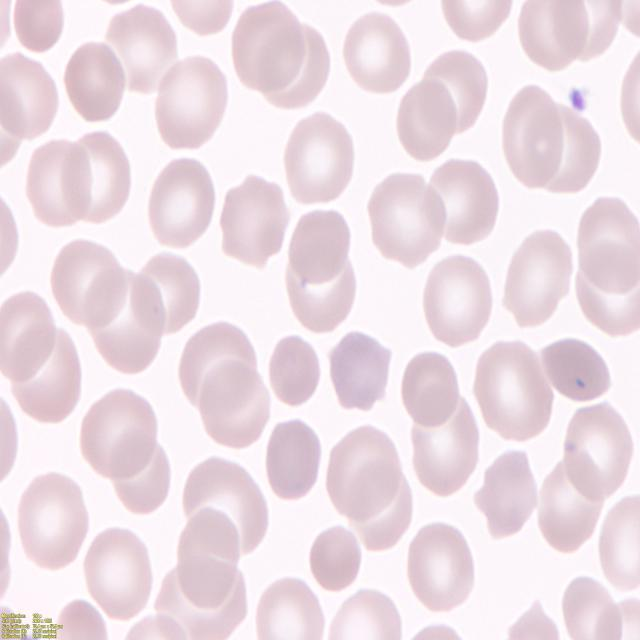RBC: (474, 341, 556, 445), (150, 52, 228, 158), (499, 225, 576, 332), (15, 473, 94, 577), (409, 396, 486, 502), (7, 326, 86, 428), (365, 173, 448, 269), (60, 130, 138, 232), (559, 404, 636, 506), (78, 383, 160, 478), (417, 252, 494, 352), (324, 423, 404, 519), (280, 110, 358, 208), (80, 526, 156, 626), (46, 235, 125, 329), (146, 156, 220, 254), (404, 520, 476, 620), (536, 456, 608, 556), (175, 504, 244, 608), (218, 175, 292, 271), (228, 1, 304, 92), (340, 10, 416, 100), (22, 134, 94, 229), (198, 360, 272, 452), (500, 84, 565, 188), (420, 44, 490, 139), (428, 164, 502, 252), (536, 104, 604, 198), (575, 195, 640, 293), (475, 447, 541, 542), (60, 40, 128, 128), (574, 249, 640, 338), (326, 331, 394, 417), (0, 49, 64, 140), (396, 75, 462, 162), (286, 205, 356, 285), (398, 348, 466, 428), (516, 0, 587, 72), (596, 490, 640, 600), (542, 340, 612, 408), (251, 578, 327, 640), (0, 292, 55, 376), (559, 576, 621, 640), (437, 0, 519, 46), (332, 587, 404, 638), (10, 0, 66, 54), (164, 0, 242, 38), (614, 48, 640, 152), (1, 388, 24, 496), (1, 188, 24, 286), (498, 606, 564, 640)
Spherocyte: (262, 416, 326, 505), (265, 335, 324, 413), (307, 520, 365, 592)
